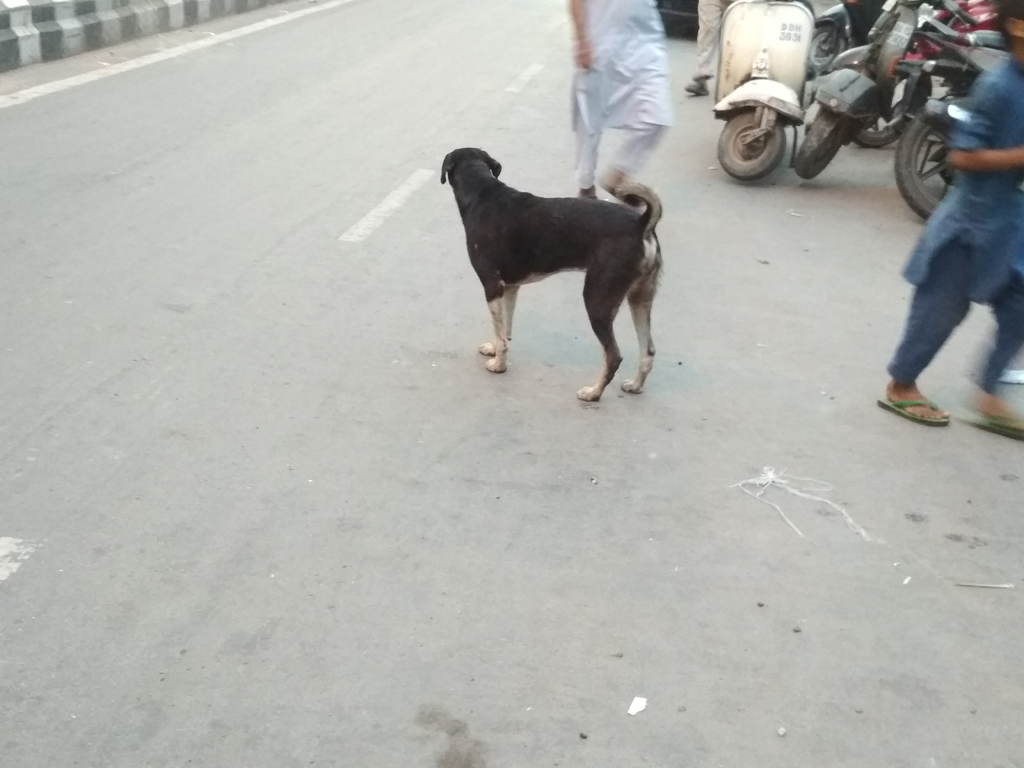dog: (440, 148, 663, 402)
